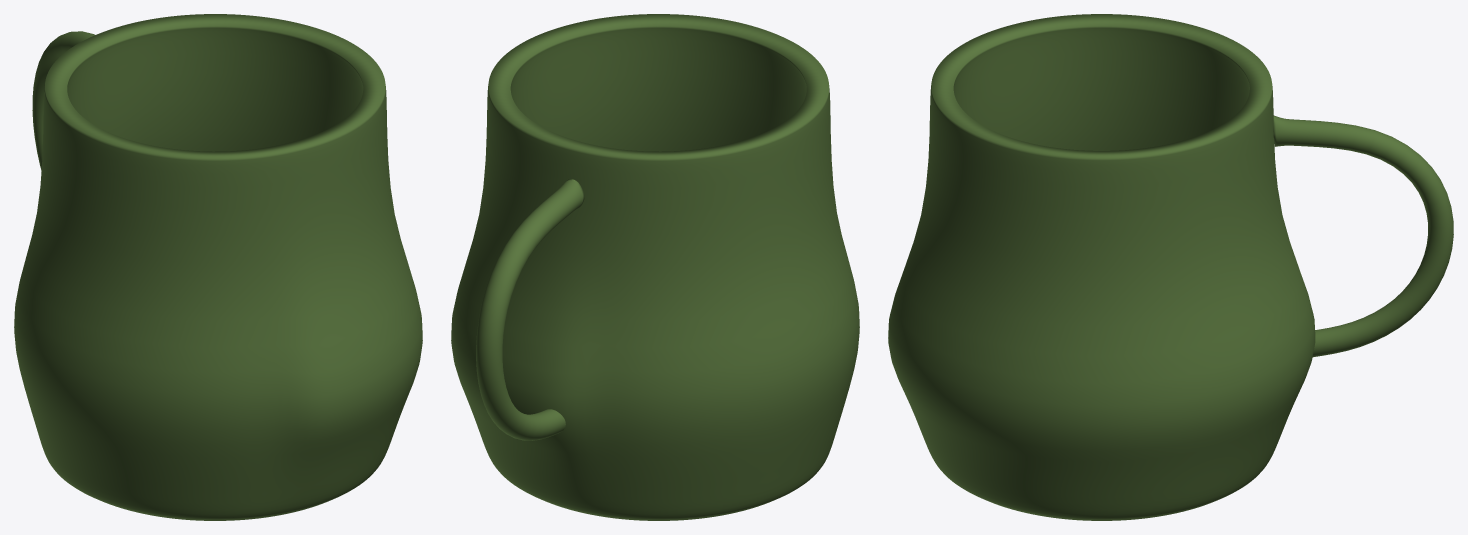
File: mug_6.glb
The picture shows the model from 3 angles, left to right: view 1: azimuth 30°, elevation 25°; view 2: azimuth 150°, elevation 25°; view 3: azimuth 270°, elevation 25°; orthographic projection.
Visible parts, largest first — view 1: Cylinder, Cylinder.001; view 2: Cylinder, Cylinder.001; view 3: Cylinder, Cylinder.001.
Part boxes in pixels (x1=…): Cylinder: x1=14, y1=14, x2=422, y2=520; Cylinder.001: x1=32, y1=31, x2=94, y2=170; Cylinder: x1=451, y1=14, x2=859, y2=520; Cylinder.001: x1=476, y1=179, x2=584, y2=440; Cylinder: x1=888, y1=14, x2=1315, y2=520; Cylinder.001: x1=1273, y1=115, x2=1453, y2=357.
Size of the model in its own units: 2.36 by 2.35 by 3.27.
